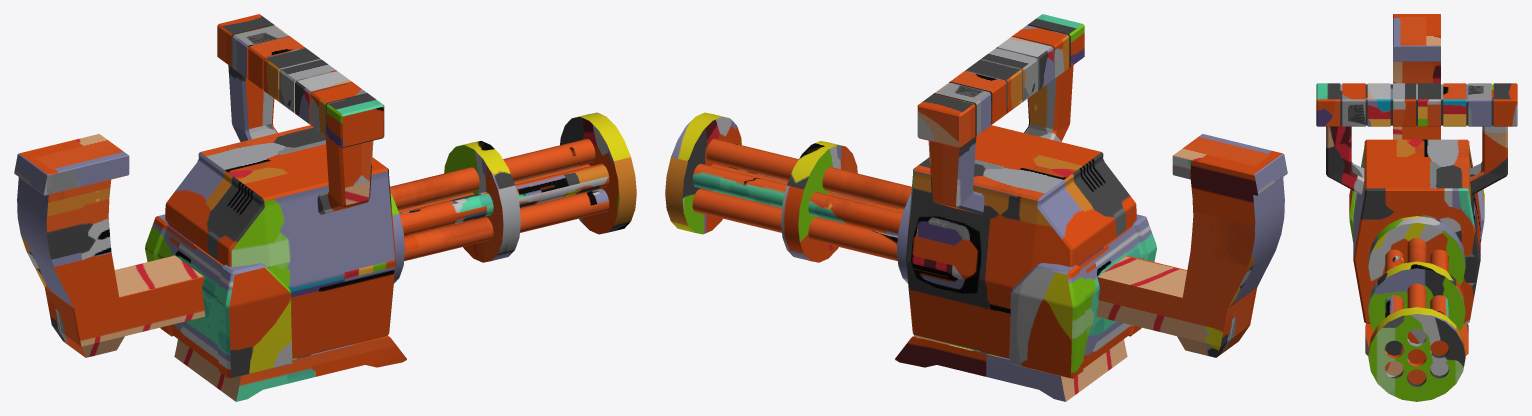
File: MachineGun.fbx
3 renders of one model, left to right at view 1: azimuth 30°, elevation 25°; view 2: azimuth 150°, elevation 25°; view 3: azimuth 270°, elevation 25°, orthographic. The views are drawn at different scales.
Parts seen in each view (by area): view 1: polySurface10; view 2: polySurface10; view 3: polySurface10.
Boxes of the visible parts, x1=… form: polySurface10: x1=14, y1=14, x2=636, y2=401; polySurface10: x1=665, y1=14, x2=1287, y2=401; polySurface10: x1=1316, y1=14, x2=1517, y2=401.
Bounding box in the file's own units: 33.38 × 16.12 × 12.53.
